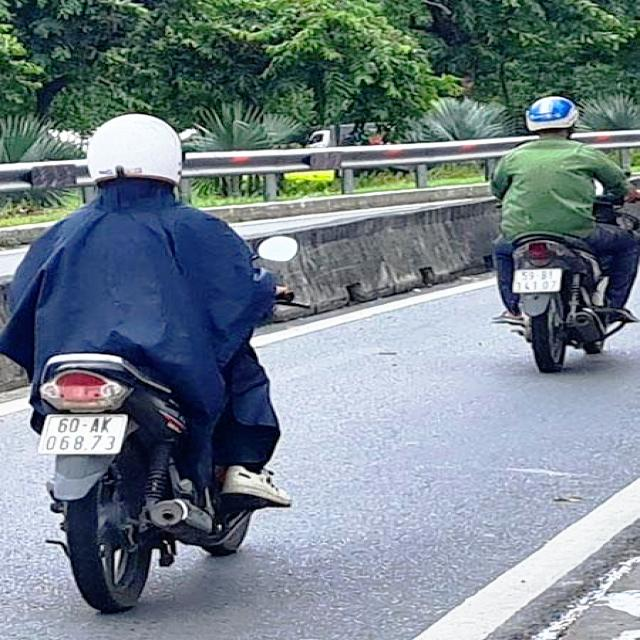license_plate: (40, 414, 129, 457)
